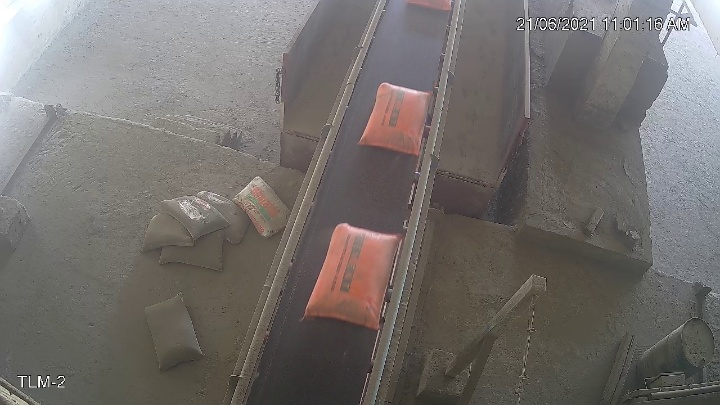bag: (311, 225, 395, 315), (364, 83, 427, 150)
